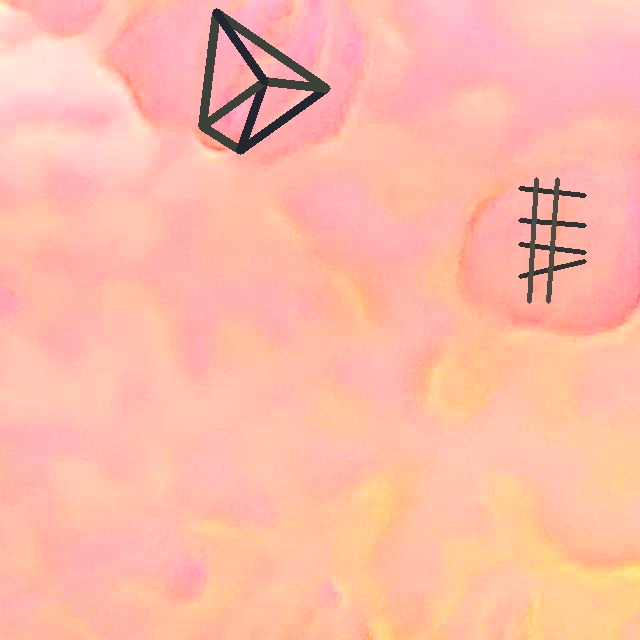close: (518, 177, 586, 303)
open: (198, 9, 330, 153)
